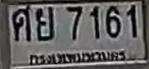1: (89, 5, 98, 38), (126, 4, 135, 36)
6: (105, 5, 120, 37)
7: (66, 6, 81, 39)
A34: (35, 6, 53, 40)
A38: (12, 5, 30, 40)
BKK: (26, 46, 130, 67)
